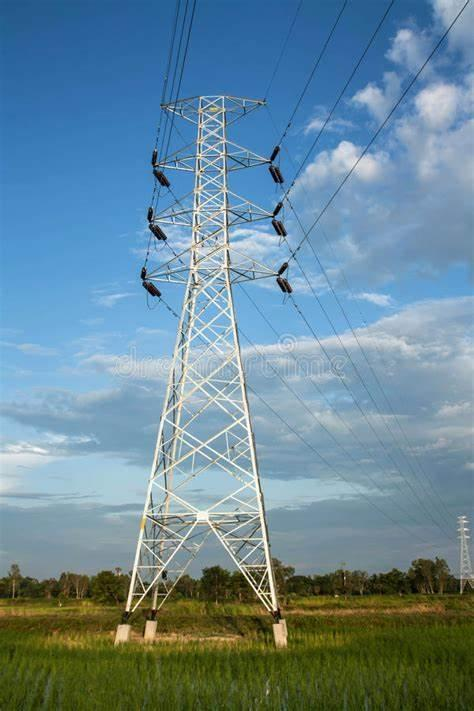power_tower: (127, 77, 299, 656)
